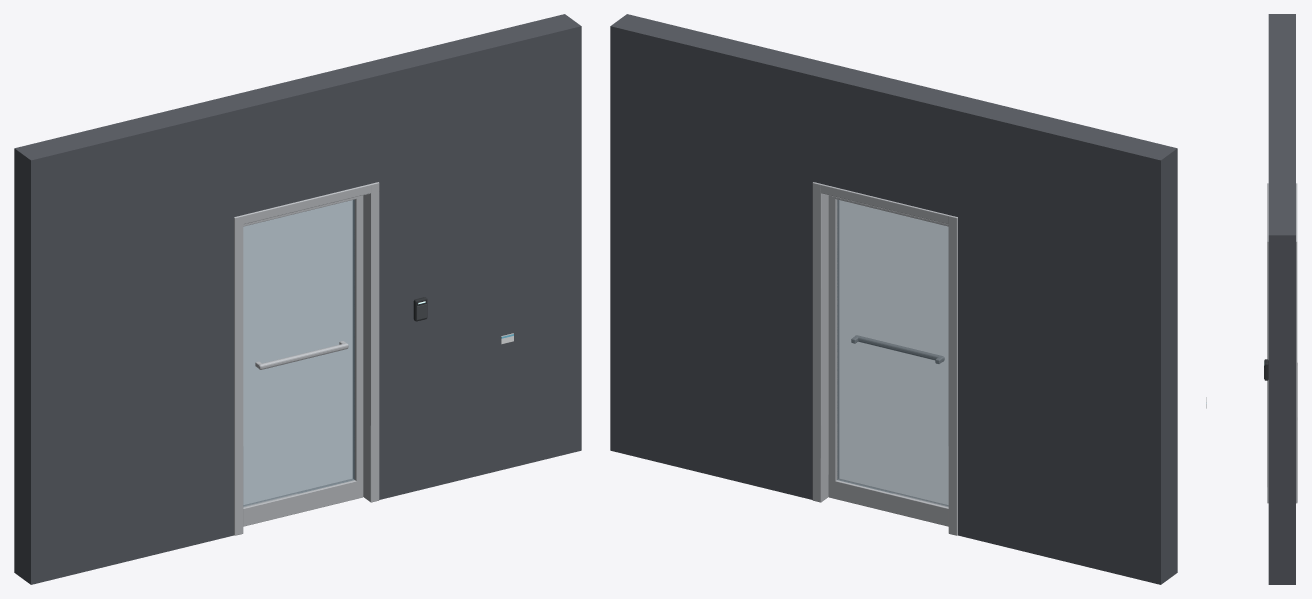
File: badge-door.glb
The picture shows the model from 3 angles, left to right: view 1: azimuth 30°, elevation 25°; view 2: azimuth 150°, elevation 25°; view 3: azimuth 270°, elevation 25°; orthographic projection. The views are drawn at different scales.
Visible parts, largest first — view 1: Wall, DoorLeaf, DoorFrame; view 2: Wall, DoorLeaf, DoorFrame; view 3: Wall, DoorFrame.
Part boxes in pixels (box(x1,y1,x2,y2)): Wall: box(14, 14, 581, 584); DoorLeaf: box(243, 195, 363, 526); DoorFrame: box(234, 182, 379, 535); Wall: box(610, 14, 1177, 584); DoorLeaf: box(828, 195, 948, 526); DoorFrame: box(812, 182, 957, 535); Wall: box(1268, 14, 1295, 584); DoorFrame: box(1267, 183, 1297, 503).
Size of the model in its own units: 3.8 by 2.8 by 0.661.
